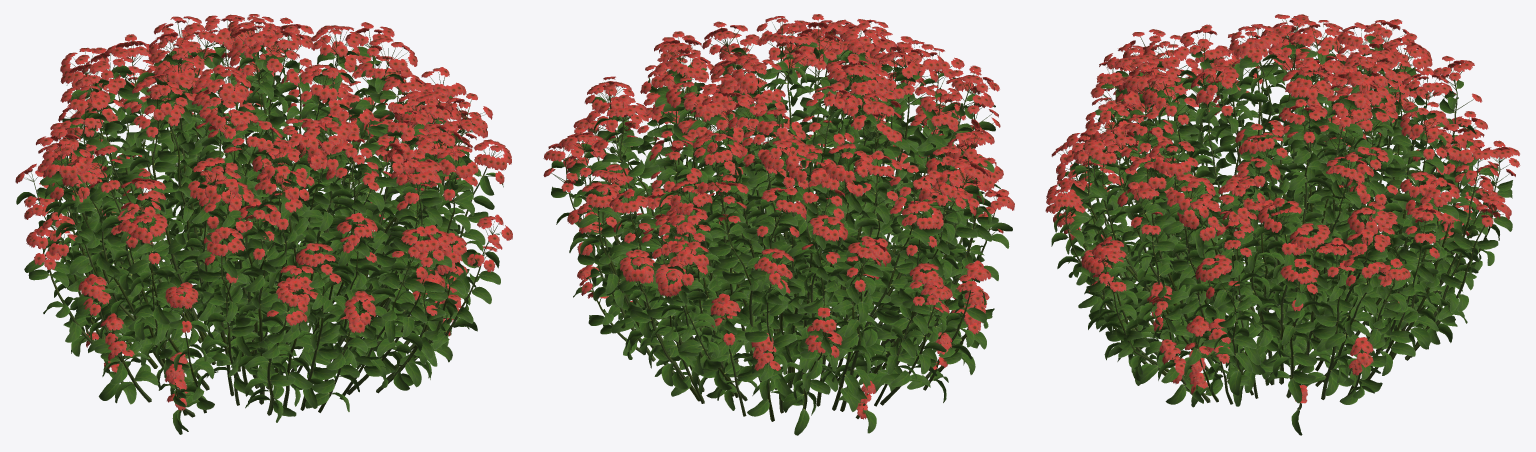
File: glb red flowering.glb
3 views of the same model, side by side, from view 1: azimuth 30°, elevation 25°; view 2: azimuth 150°, elevation 25°; view 3: azimuth 270°, elevation 25° (orthographic). The views are drawn at different scales.
Parts seen in each view (by area): view 1: leaf02, flovers02, barg02; view 2: leaf02, flovers02, barg02; view 3: leaf02, flovers02, barg02.
Boxes of the visible parts, box(x1,y1,x2,y2) form: leaf02: box(16, 34, 503, 434); flovers02: box(15, 14, 512, 410); barg02: box(24, 19, 501, 417); leaf02: box(550, 38, 1012, 435); flovers02: box(543, 14, 1014, 419); barg02: box(551, 20, 1001, 421); leaf02: box(1051, 32, 1512, 435); flovers02: box(1045, 14, 1520, 403); barg02: box(1057, 19, 1510, 409).
Bounding box in the file's own units: 1.94 × 1.45 × 1.94.
Materials: 3 (3 with a texture image).
